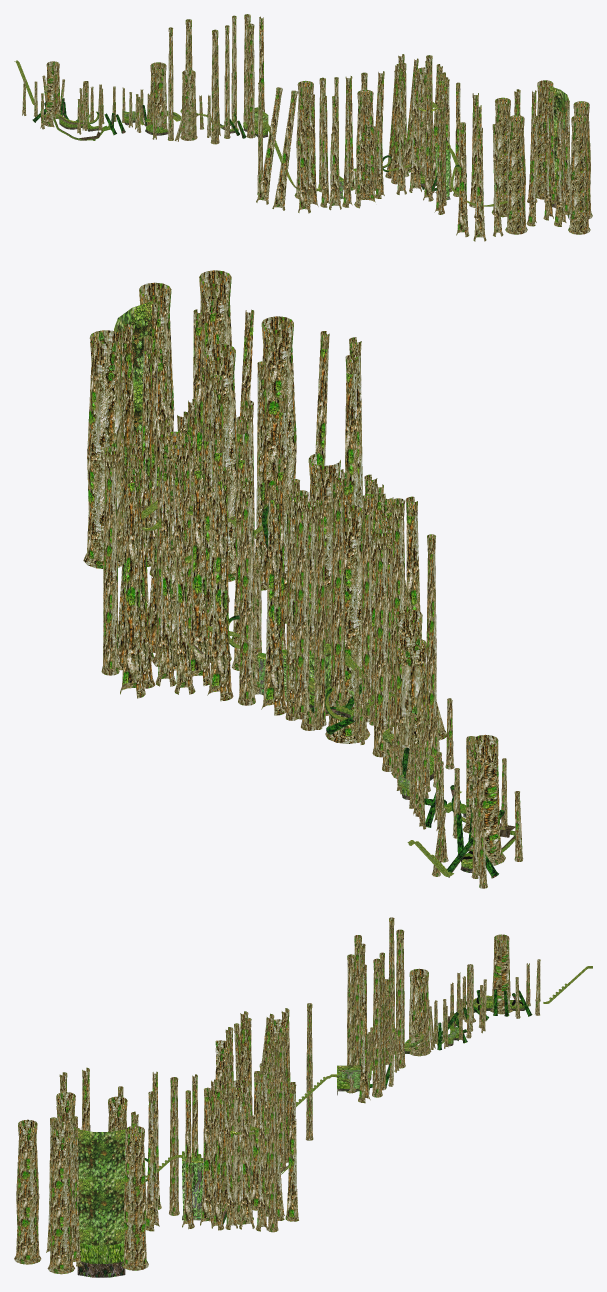
File: NoCollision.obj
The picture shows the model from 3 angles, top to bottom: view 1: azimuth 30°, elevation 25°; view 2: azimuth 150°, elevation 25°; view 3: azimuth 270°, elevation 25°; orthographic projection. The views are drawn at different scales.
Size of the model in its own units: 12188 by 5037 by 13379.
24 materials, 24 textured.
